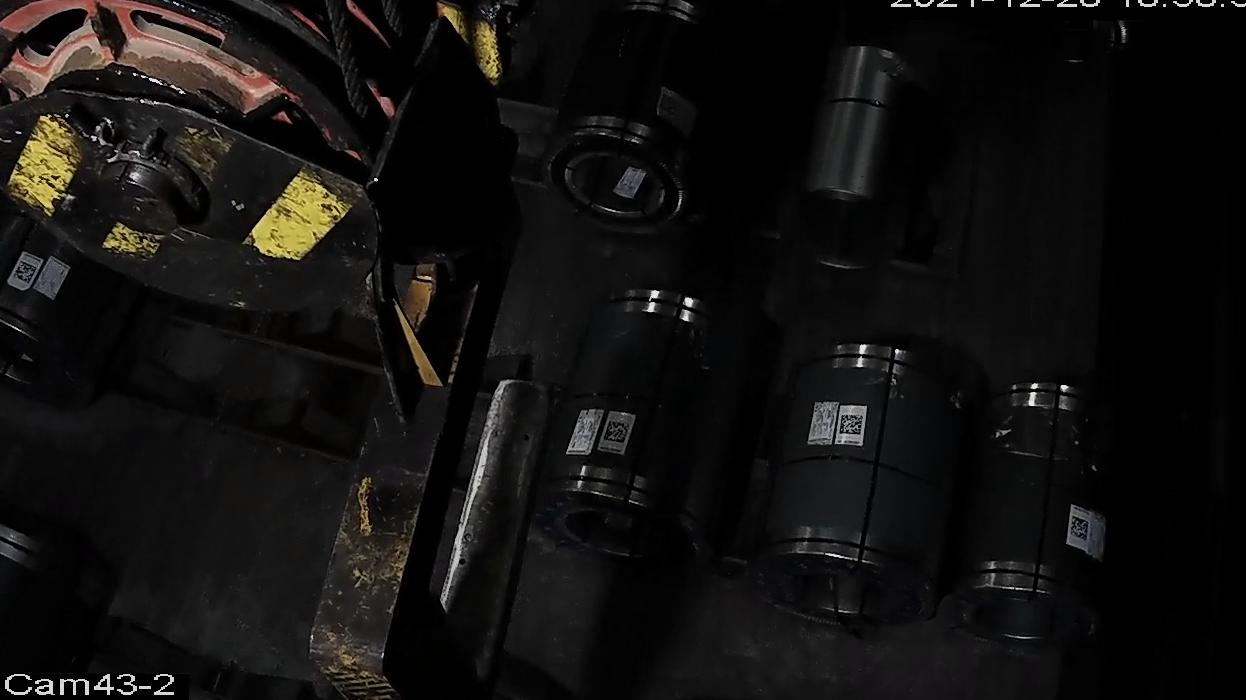data matrix: (1064, 512, 1095, 544), (602, 418, 633, 447), (837, 411, 867, 439), (10, 260, 40, 287)
